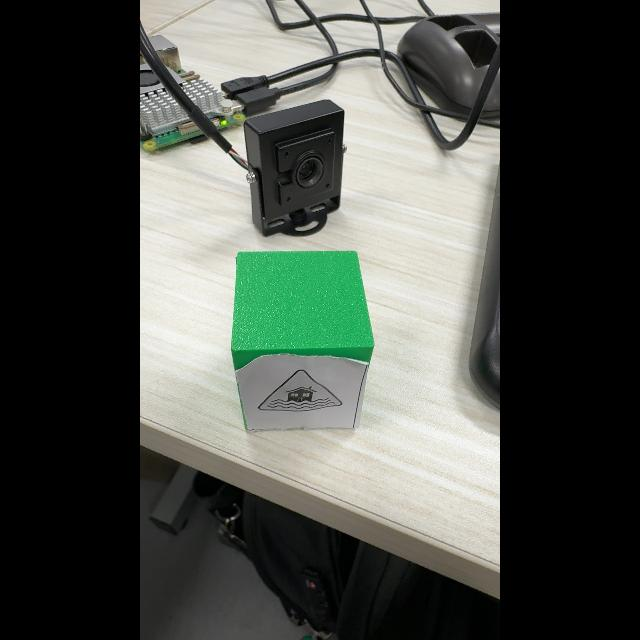Tsunami: (258, 370, 342, 412)
